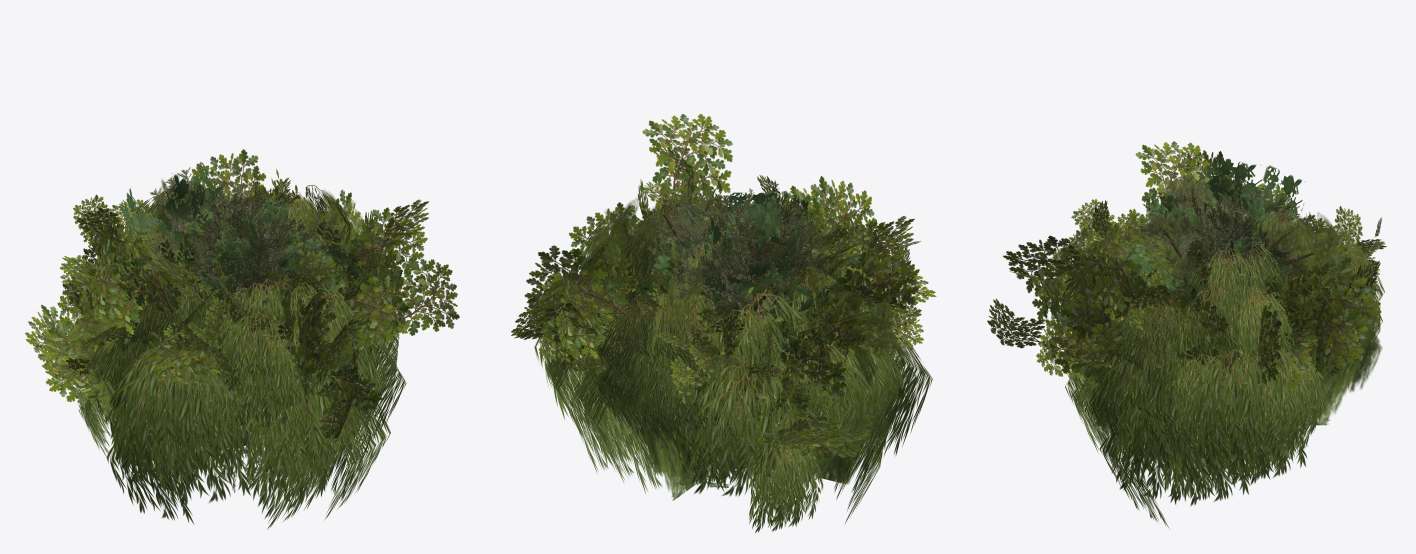
The model's file is trees-temperate.glb.
3 views of the same model, side by side, from view 1: azimuth 30°, elevation 25°; view 2: azimuth 150°, elevation 25°; view 3: azimuth 270°, elevation 25° (orthographic). The views are drawn at different scales.
Visible parts, largest first — view 1: willow_mid_tree, oak_mid_tree, willow_tree, oak_tree, alder_mid_tree, pine_mid_tree, oak_far_tree, beech_mid_tree, pine_tree, willow_far_tree, alder_tree, beech_tree (+2 smaller); view 2: oak_mid_tree, willow_mid_tree, willow_tree, oak_tree, willow_far_tree, pine_mid_tree, alder_mid_tree, oak_far_tree, pine_tree, beech_mid_tree, beech_tree, alder_tree (+5 smaller); view 3: willow_mid_tree, oak_mid_tree, willow_tree, oak_tree, alder_mid_tree, willow_far_tree, pine_mid_tree, pine_tree, beech_mid_tree, oak_far_tree, pine_far_tree, alder_tree (+4 smaller).
Part boxes in pixels (box(x1,y1,x2,y2)): willow_mid_tree: box(70, 228, 406, 529); oak_mid_tree: box(25, 149, 459, 442); willow_tree: box(78, 185, 395, 458); oak_tree: box(42, 178, 398, 424); alder_mid_tree: box(104, 161, 366, 354); pine_mid_tree: box(140, 167, 351, 321); oak_far_tree: box(65, 179, 358, 437); beech_mid_tree: box(112, 169, 371, 366); pine_tree: box(139, 190, 315, 298); willow_far_tree: box(95, 175, 365, 480); alder_tree: box(156, 201, 289, 305); beech_tree: box(117, 210, 329, 313); oak_mid_tree: box(511, 114, 936, 457); willow_mid_tree: box(534, 277, 932, 523); willow_tree: box(546, 200, 890, 532); oak_tree: box(534, 175, 923, 462); willow_far_tree: box(585, 198, 876, 499); pine_mid_tree: box(648, 180, 851, 334); alder_mid_tree: box(636, 184, 859, 383); oak_far_tree: box(601, 197, 908, 438); pine_tree: box(629, 188, 822, 332); beech_mid_tree: box(547, 183, 833, 371); beech_tree: box(622, 207, 826, 362); alder_tree: box(643, 195, 813, 370); willow_mid_tree: box(1065, 218, 1376, 528); oak_mid_tree: box(987, 141, 1381, 394); willow_tree: box(1058, 225, 1384, 479); oak_tree: box(1058, 199, 1386, 393); alder_mid_tree: box(1115, 155, 1305, 317); willow_far_tree: box(1074, 209, 1382, 425); pine_mid_tree: box(1114, 173, 1325, 312); pine_tree: box(1134, 188, 1298, 294); beech_mid_tree: box(1083, 186, 1323, 402); oak_far_tree: box(1035, 212, 1352, 382); pine_far_tree: box(1129, 207, 1305, 249); alder_tree: box(1146, 190, 1307, 318).
Size of the model in its own units: 0.7925 by 0.912 by 0.8696.
1 material, 1 textured.
